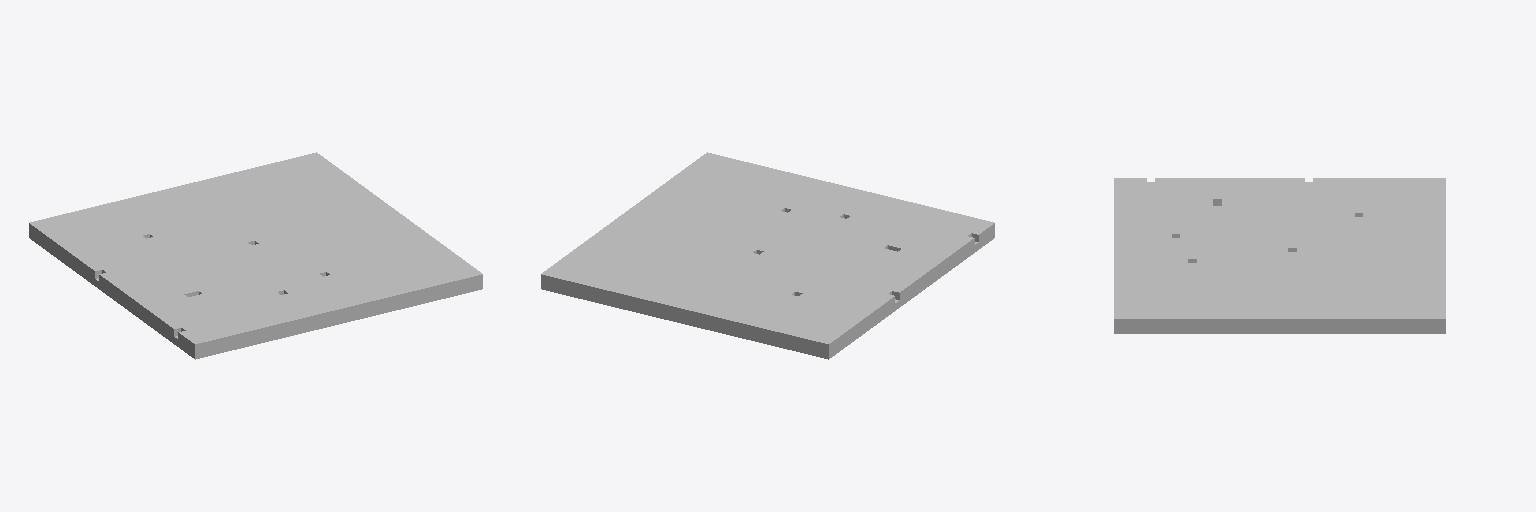
Rendered from Walk2.obj.
The picture shows the model from 3 angles: view 1: azimuth 30°, elevation 25°; view 2: azimuth 150°, elevation 25°; view 3: azimuth 270°, elevation 25°; orthographic projection.
Bounding box in the file's own units: 40 × 2 × 40.